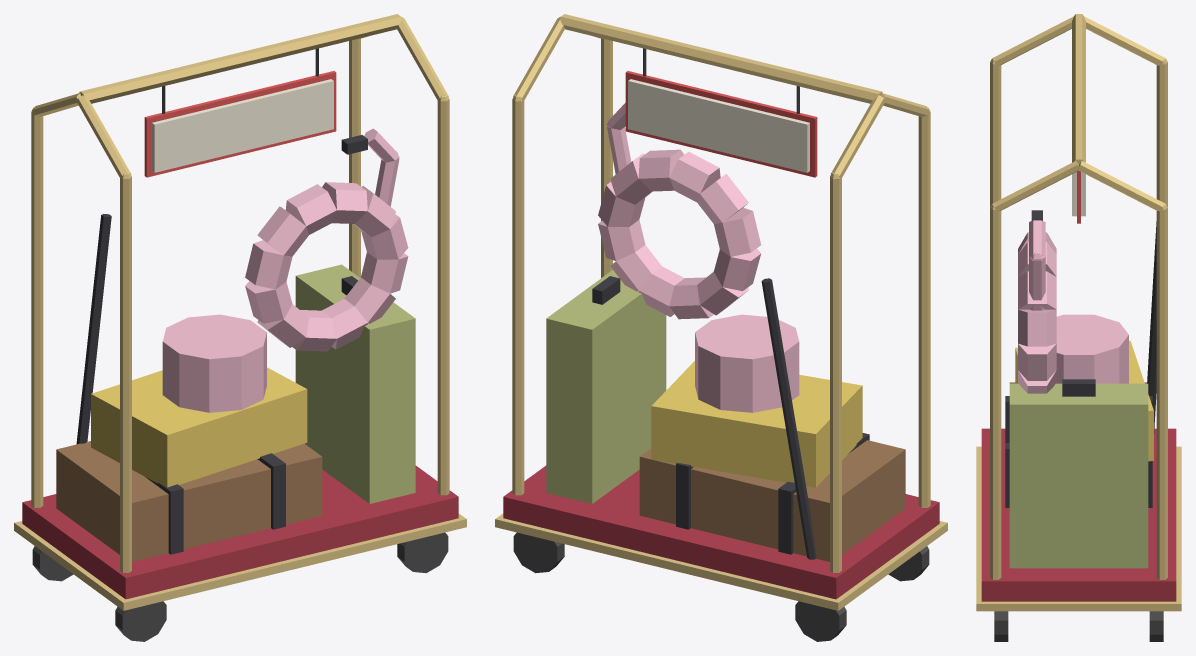
Rendered from HJ_ObjetosPerdidos.fbx.
3 views of the same model, side by side, from view 1: azimuth 30°, elevation 25°; view 2: azimuth 150°, elevation 25°; view 3: azimuth 270°, elevation 25° (orthographic). The views are drawn at different scales.
Visible parts, largest first — view 1: HJ_ObjetosPerdidos; view 2: HJ_ObjetosPerdidos; view 3: HJ_ObjetosPerdidos.
Boxes of the visible parts, x1,y1,x2,y2 form: HJ_ObjetosPerdidos: (14, 14, 466, 641); HJ_ObjetosPerdidos: (495, 14, 947, 641); HJ_ObjetosPerdidos: (976, 14, 1181, 641).
Size of the model in its own units: 1.34 by 1.94 by 0.74.
